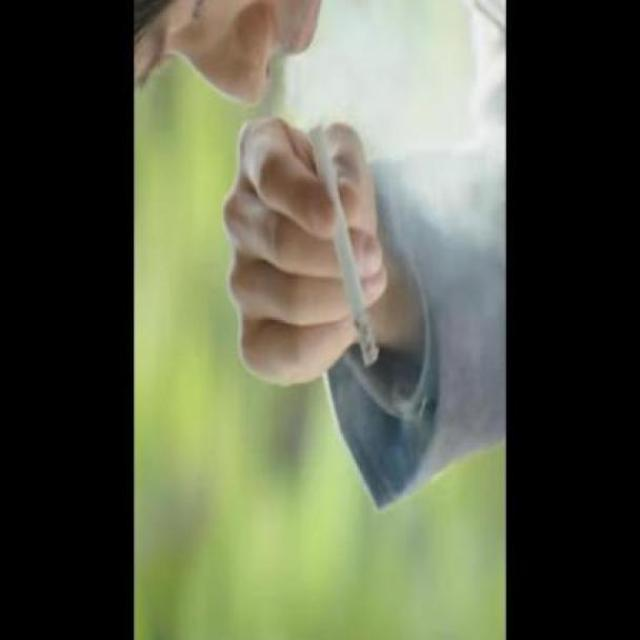rokok: (302, 115, 384, 368)
